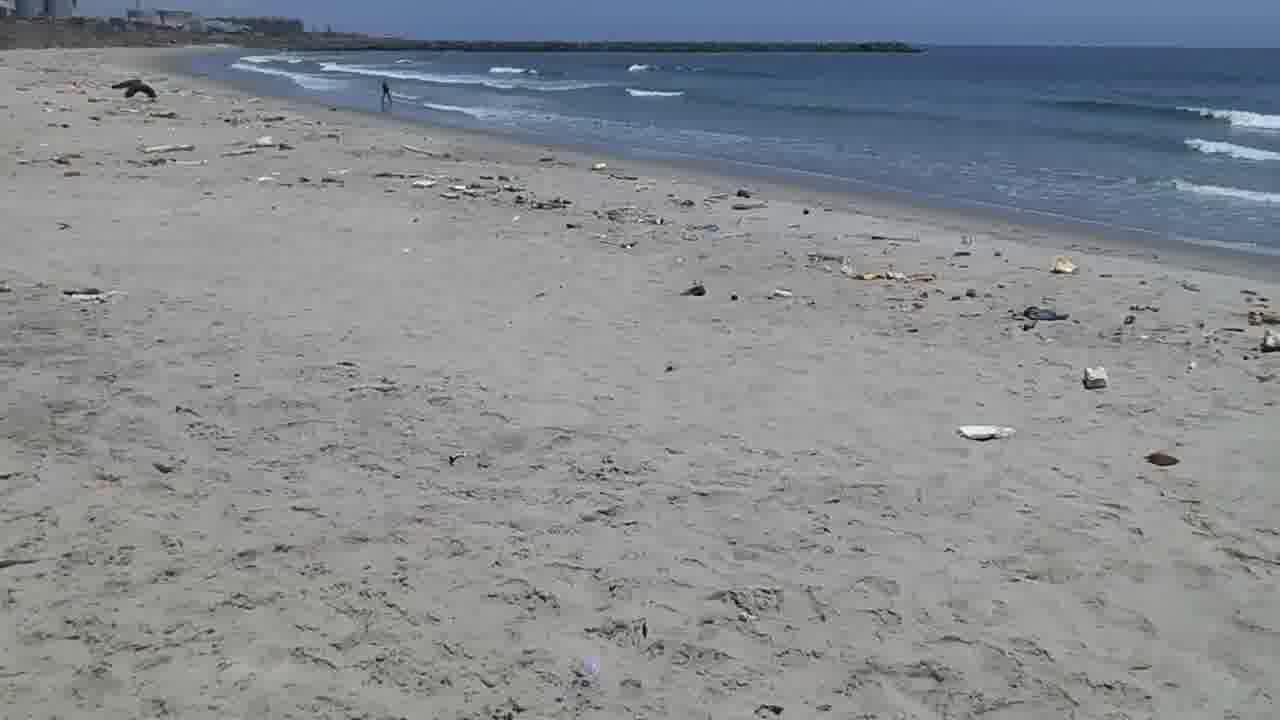large collection of objects: (1245, 290, 1279, 366)
obj: (805, 254, 953, 298), (1010, 304, 1070, 330), (954, 422, 1020, 445), (218, 134, 276, 160), (132, 136, 194, 154), (440, 182, 500, 200), (108, 76, 157, 97), (1146, 448, 1192, 469), (62, 286, 119, 302), (399, 142, 444, 160), (408, 174, 438, 194), (676, 280, 706, 298), (1047, 256, 1076, 273), (1080, 369, 1112, 384), (242, 171, 282, 182), (769, 288, 794, 299), (58, 168, 84, 178), (328, 168, 352, 178), (168, 160, 207, 166), (590, 161, 610, 171), (428, 172, 430, 176)
sand/background: (0, 0, 1279, 268)
